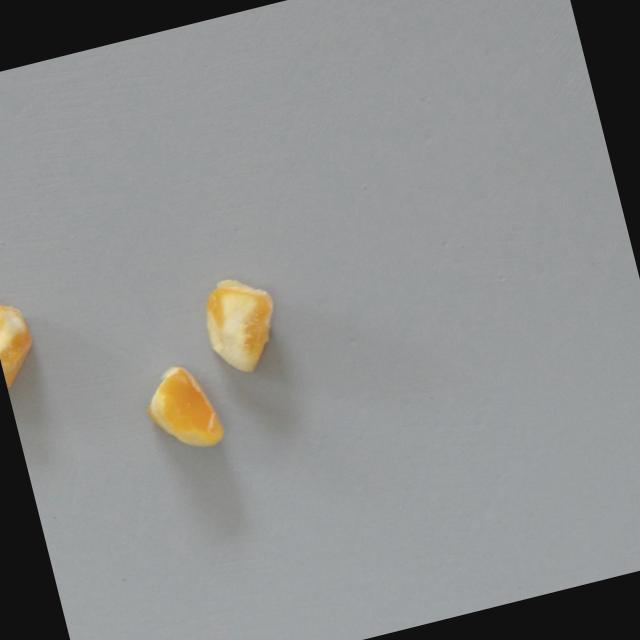dañado: (0, 291, 48, 402)
pelicula: (193, 268, 288, 381), (132, 354, 231, 459)
